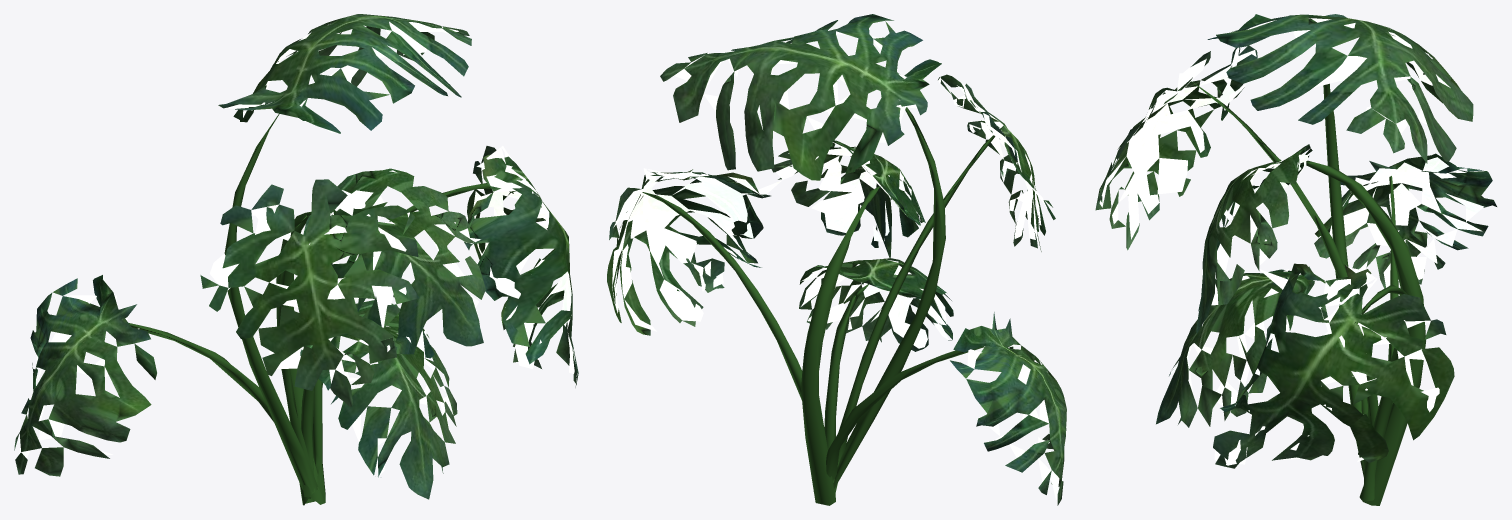
File: monstera.glb
3 views of the same model, side by side, from view 1: azimuth 30°, elevation 25°; view 2: azimuth 150°, elevation 25°; view 3: azimuth 270°, elevation 25° (orthographic). The views are drawn at different scales.
Parts seen in each view (by area): view 1: 6L.004; view 2: 6L.004; view 3: 6L.004.
Part boxes in pixels (left/top/right/bottom): 6L.004: left=14, top=14, right=578, bottom=505; 6L.004: left=607, top=14, right=1066, bottom=505; 6L.004: left=1095, top=14, right=1496, bottom=505.
Size of the model in its own units: 743 by 665 by 496.
Materials: 3 (2 with a texture image).
